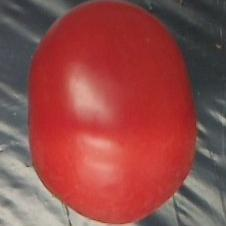unripe: (26, 0, 202, 226)
